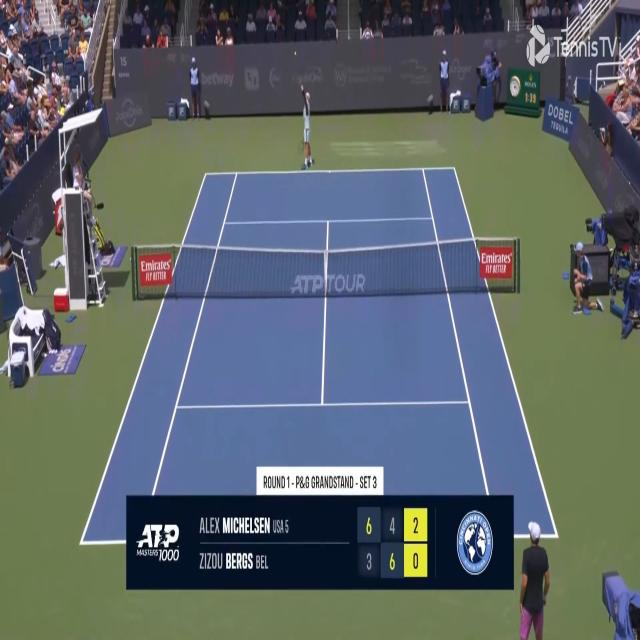tennis-player: (518, 518, 551, 640), (300, 84, 315, 171)
